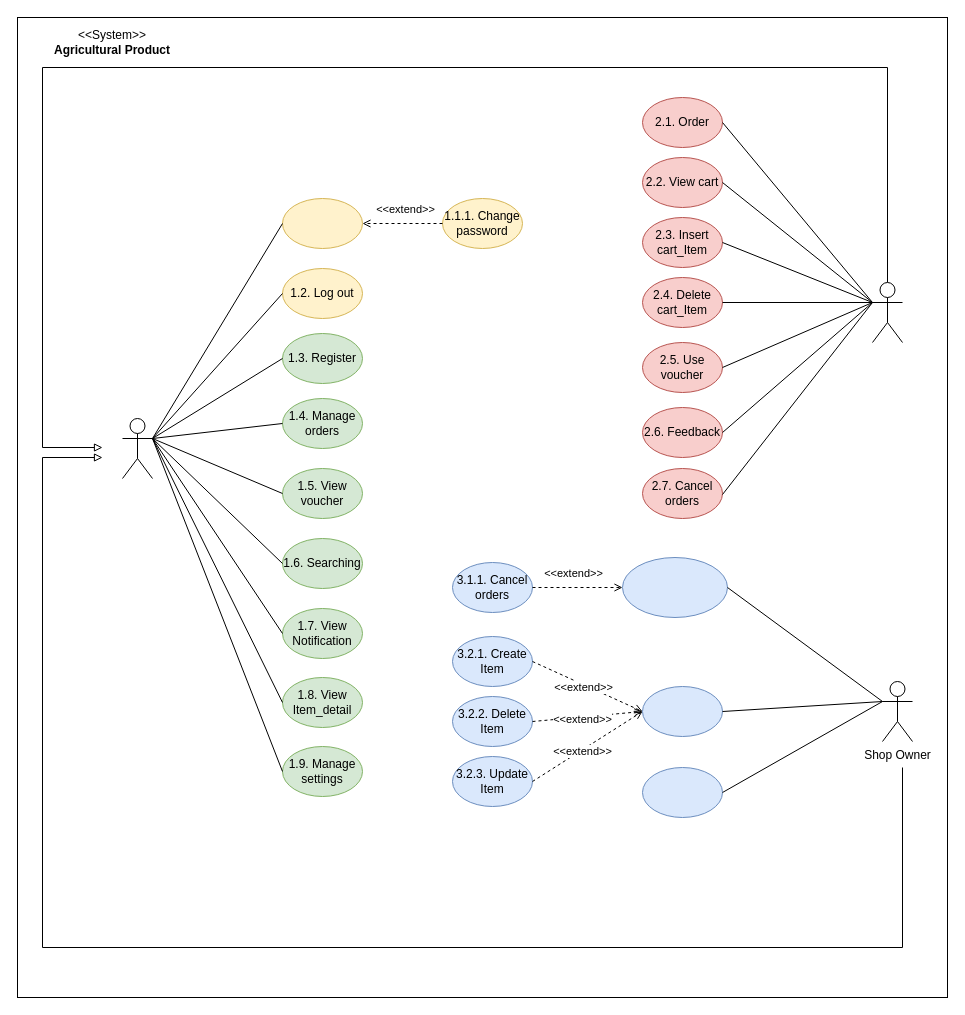
The diagram is 965 pixels wide and 1015 high, and some of its shapes have lost their labels. The centre of each missing label's shape, as x and y in pixels:
1.1. Log in: (322,223)
3.1. Receive and process orders: (675,587)
3.2. Handle Items: (682,711)
3.3. View voucher: (682,792)
Customer: (887,312)
User: (137,448)
